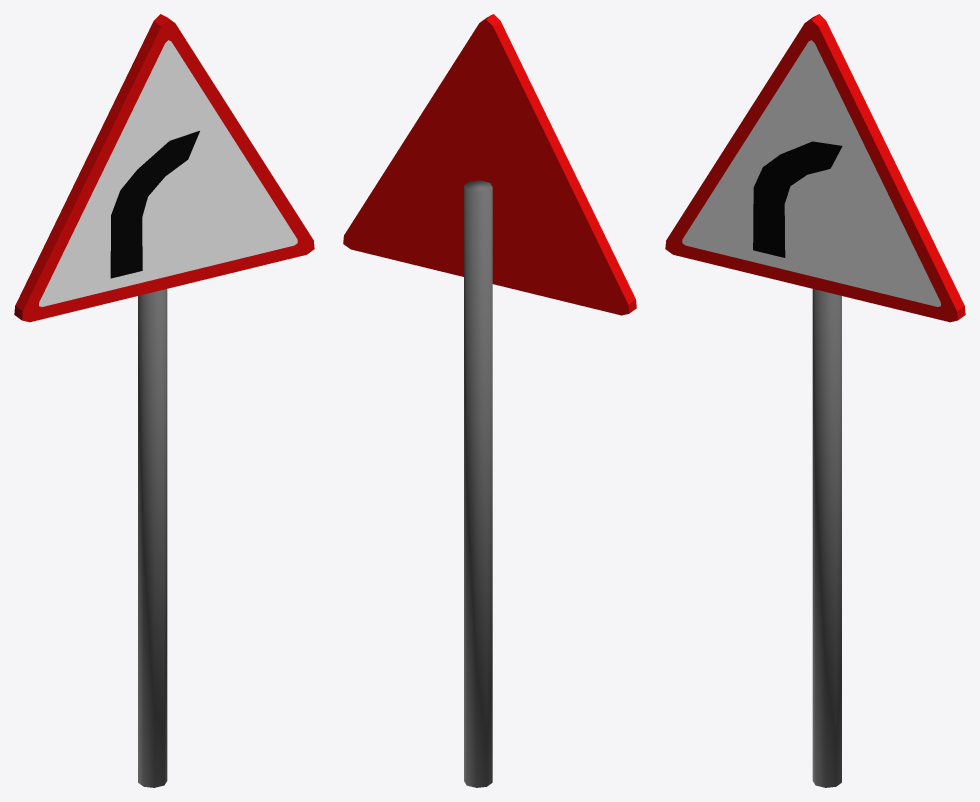
The model's file is Prop_StreetSign_TurnRight.fbx.
3 renders of one model, left to right at view 1: azimuth 30°, elevation 25°; view 2: azimuth 150°, elevation 25°; view 3: azimuth 330°, elevation 25°, orthographic. The views are drawn at different scales.
Visible parts, largest first — view 1: Prop_StreetSign_TurnRight; view 2: Prop_StreetSign_TurnRight; view 3: Prop_StreetSign_TurnRight.
Part boxes in pixels (x1,y1,x2,y2): Prop_StreetSign_TurnRight: [14, 14, 314, 787]; Prop_StreetSign_TurnRight: [343, 14, 636, 787]; Prop_StreetSign_TurnRight: [665, 14, 965, 787].
Size of the model in its own units: 166 by 420 by 22.87.
